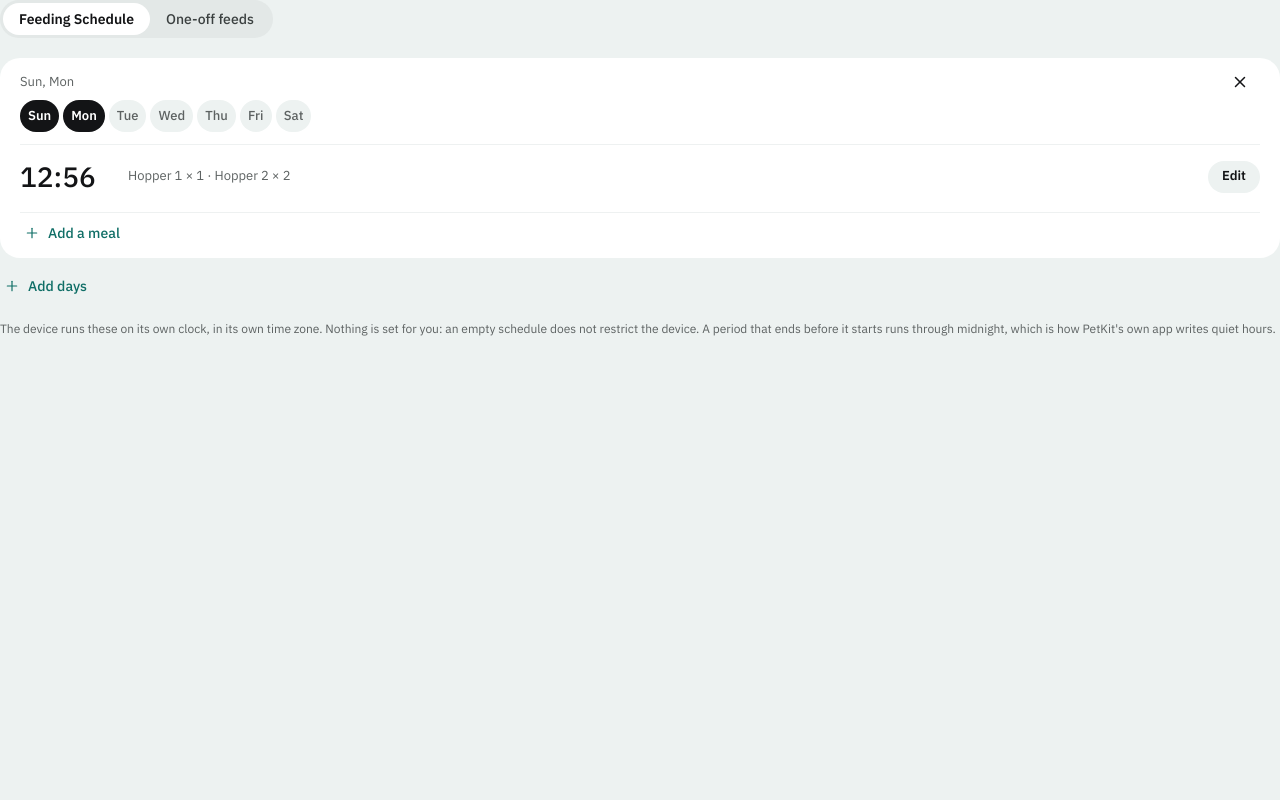
Scenario: DeviceSchedules › edits feeder meals in seconds and keeps the one-off feeds it does not own
Check: the element named "Meal set 1" shows "12:56", box [20,158,96,195]
Click the button with aria-label "Edit meal 1 of set 1" at (1234, 176), box [1208,160,1260,192]
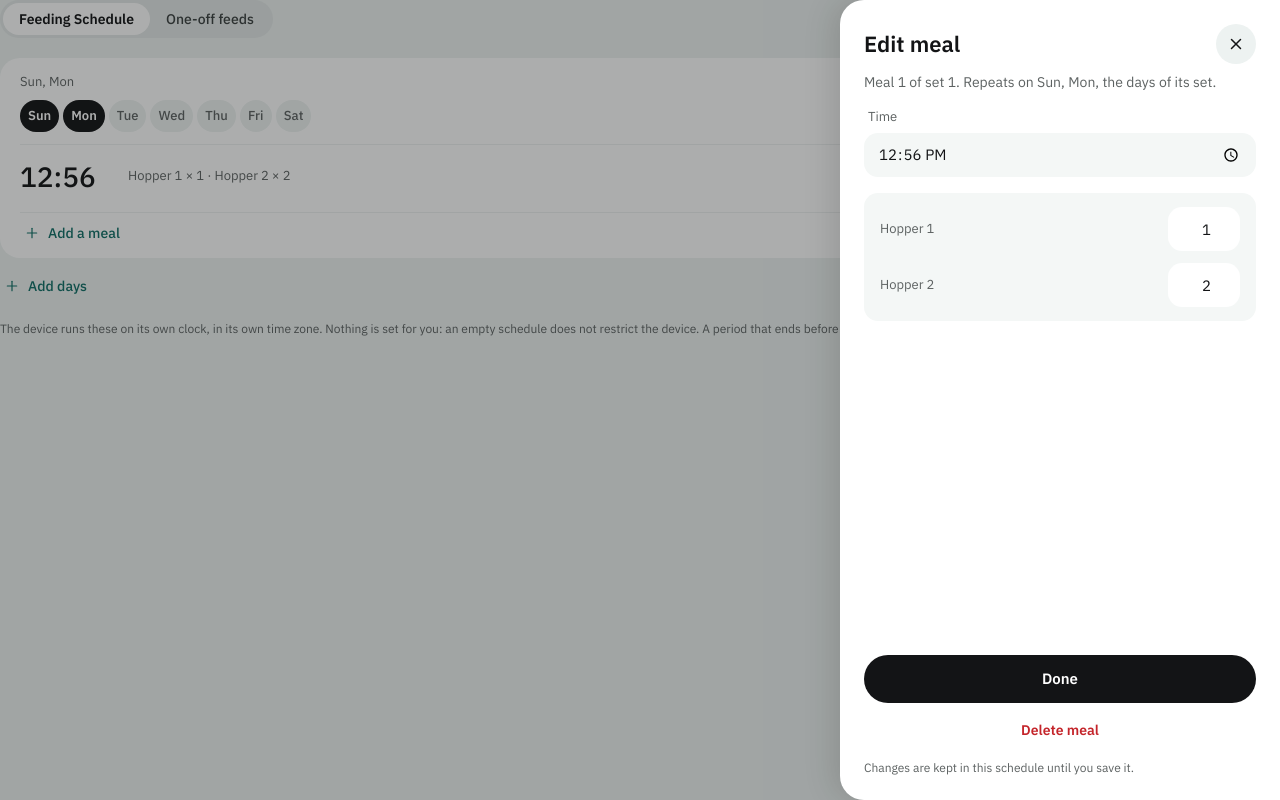
Check: the time field named "Meal 1 of set 1 time" holds "12:56"
Replace the text in the time field named "Meal 1 of set 1 time" with "13:00" at (1060, 155), box [864,133,1256,177]
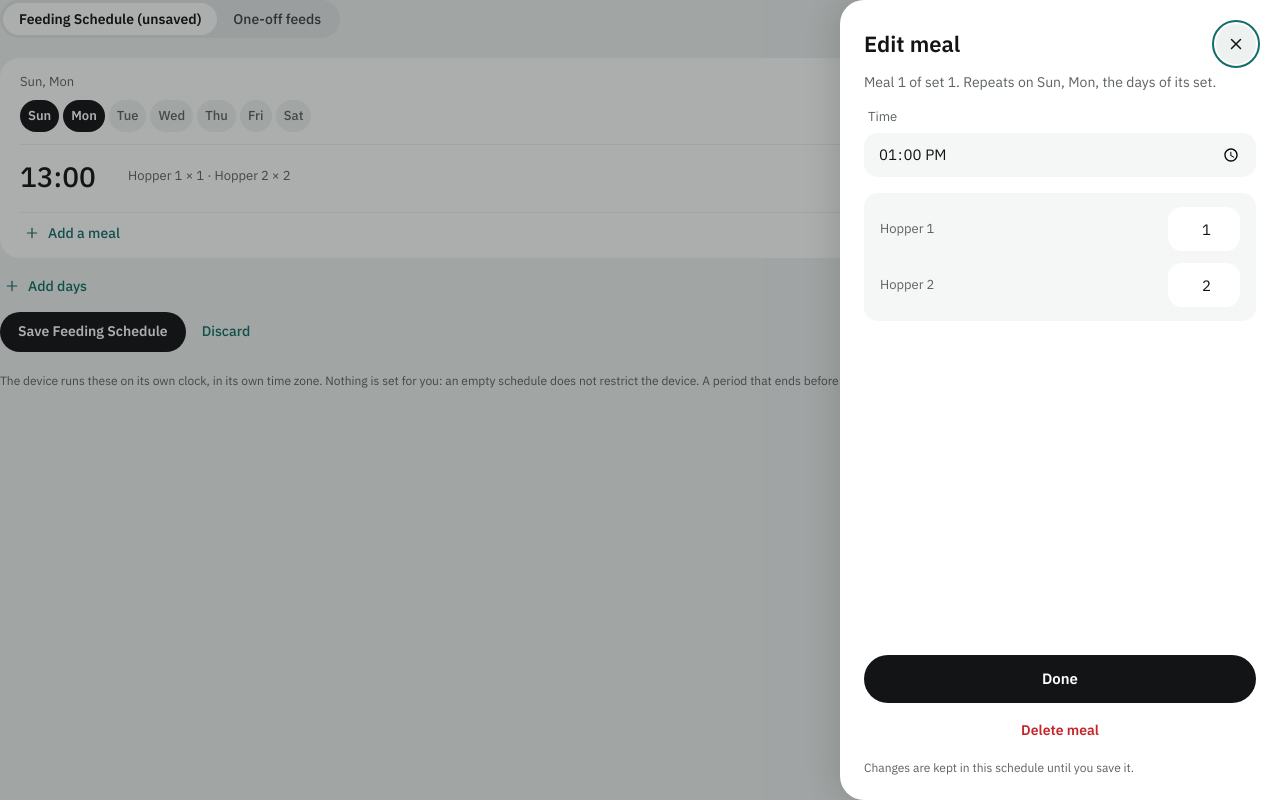
Replace the text in the number field labelled "Hopper 2" with "3" at (1204, 285), box [1168,263,1240,307]
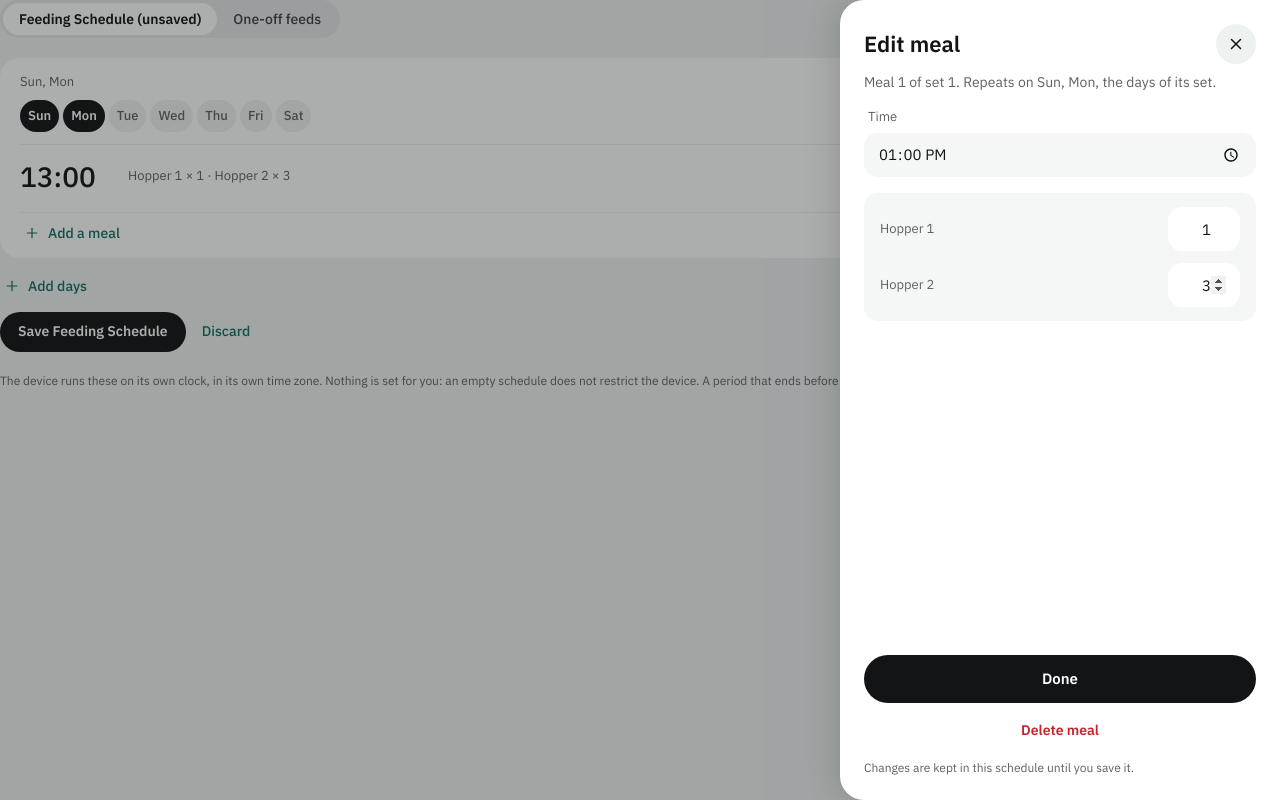
Click the button "Done" at (1060, 679), box [864,655,1256,703]
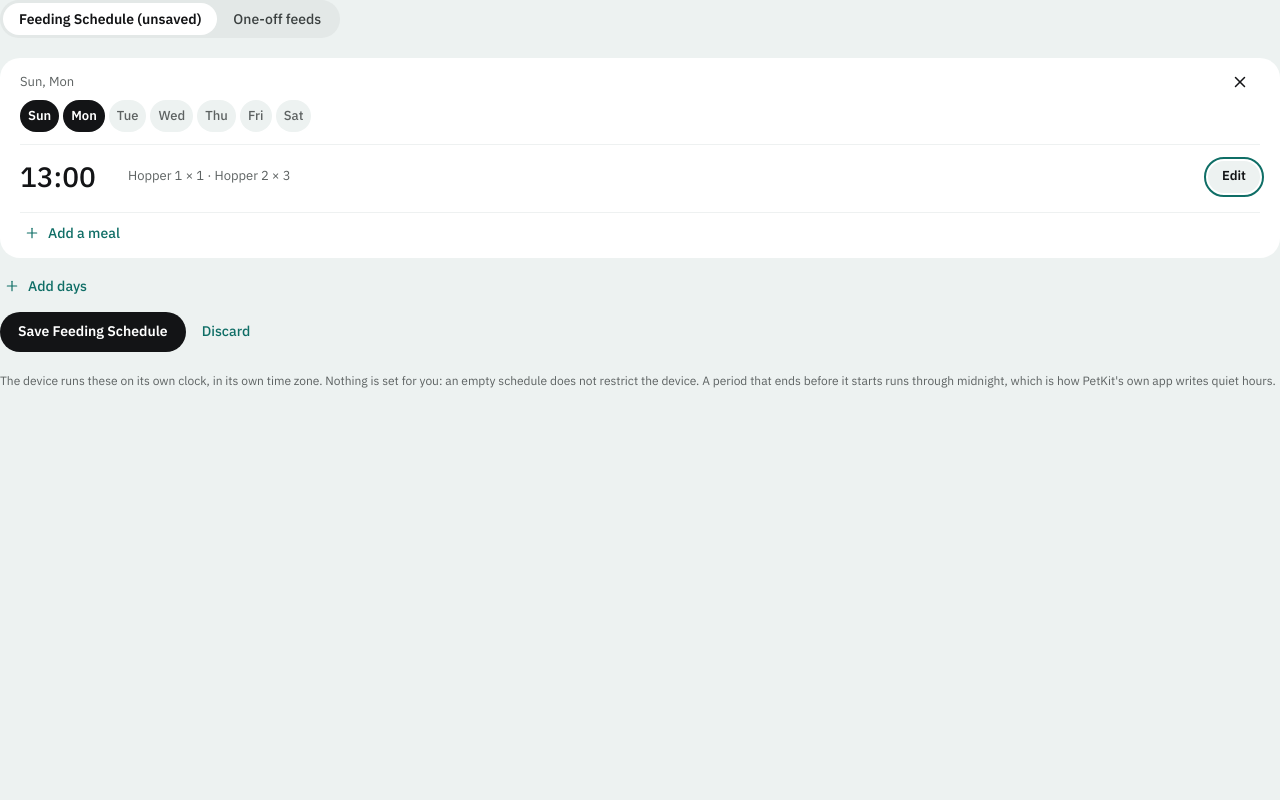
Check: the element named "Meal set 1" shows "13:00", box [20,158,96,195]
Check: the heading "Edit meal" is gone
Click the button "Save Feeding Schedule" at (93, 332), box [0,312,186,352]
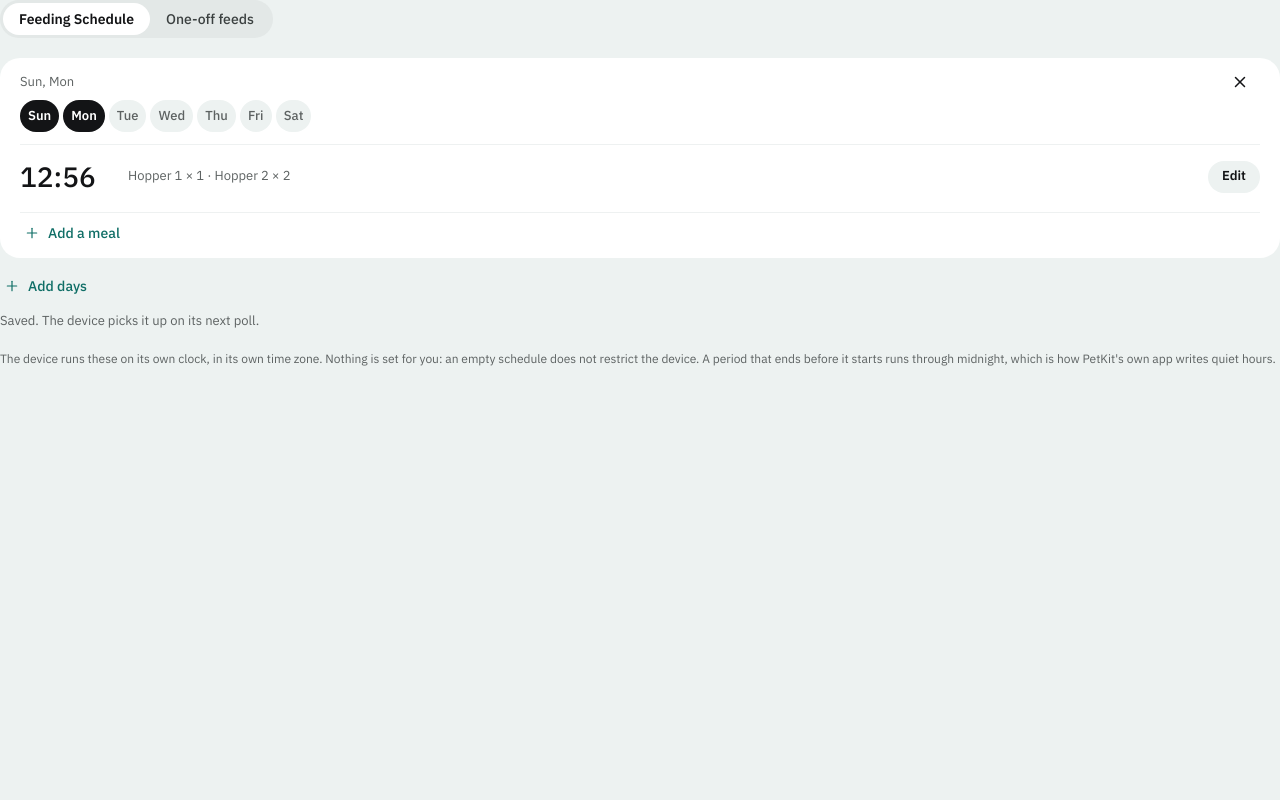
Check: the message shows "next poll", box [0,312,259,329]
